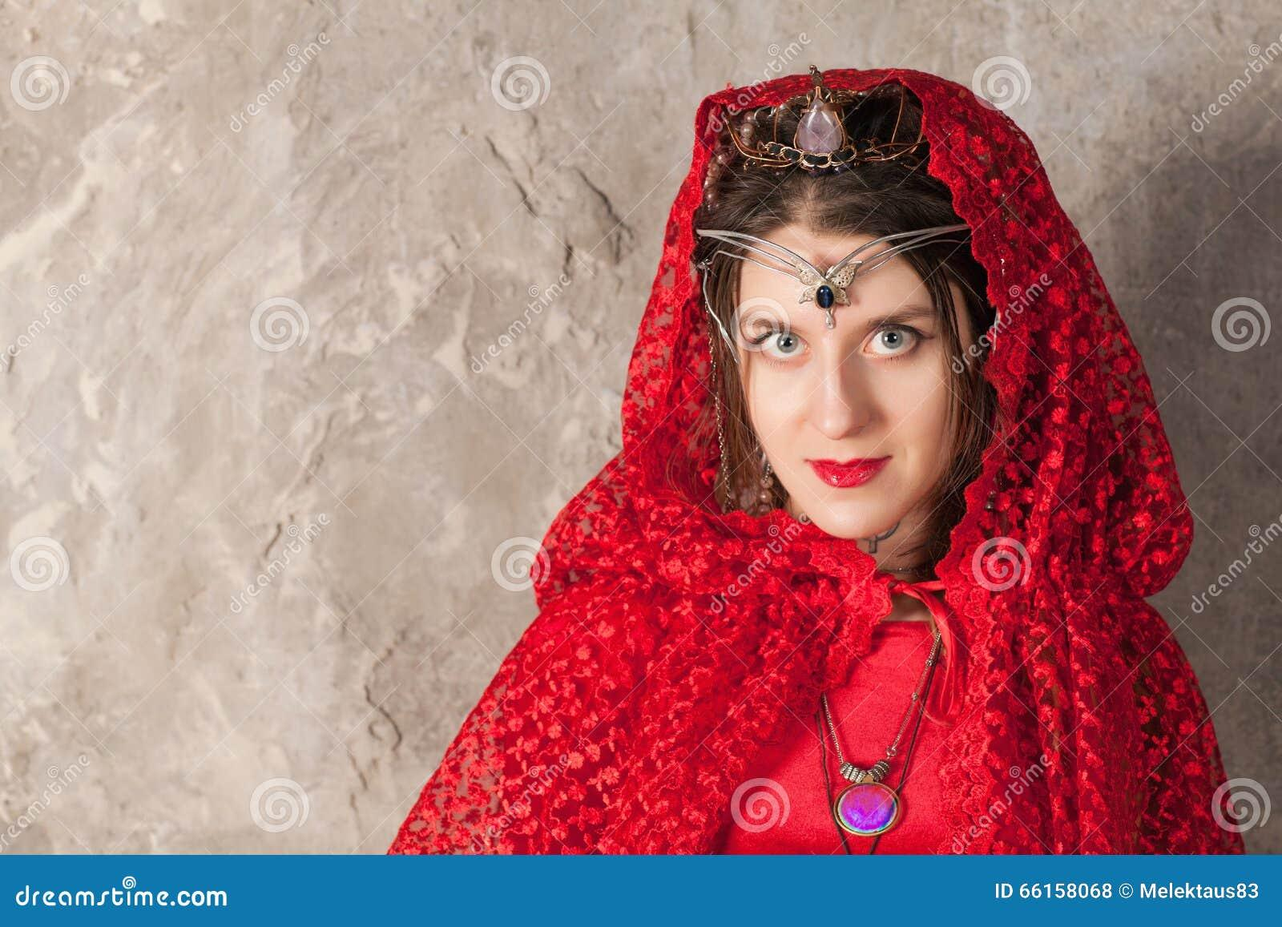scarf-kerchief: (601, 56, 1197, 649)
